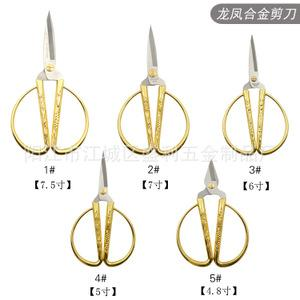scissor: (10, 10, 89, 155), (117, 24, 191, 157), (176, 157, 250, 270), (222, 35, 290, 156), (71, 152, 134, 268)
